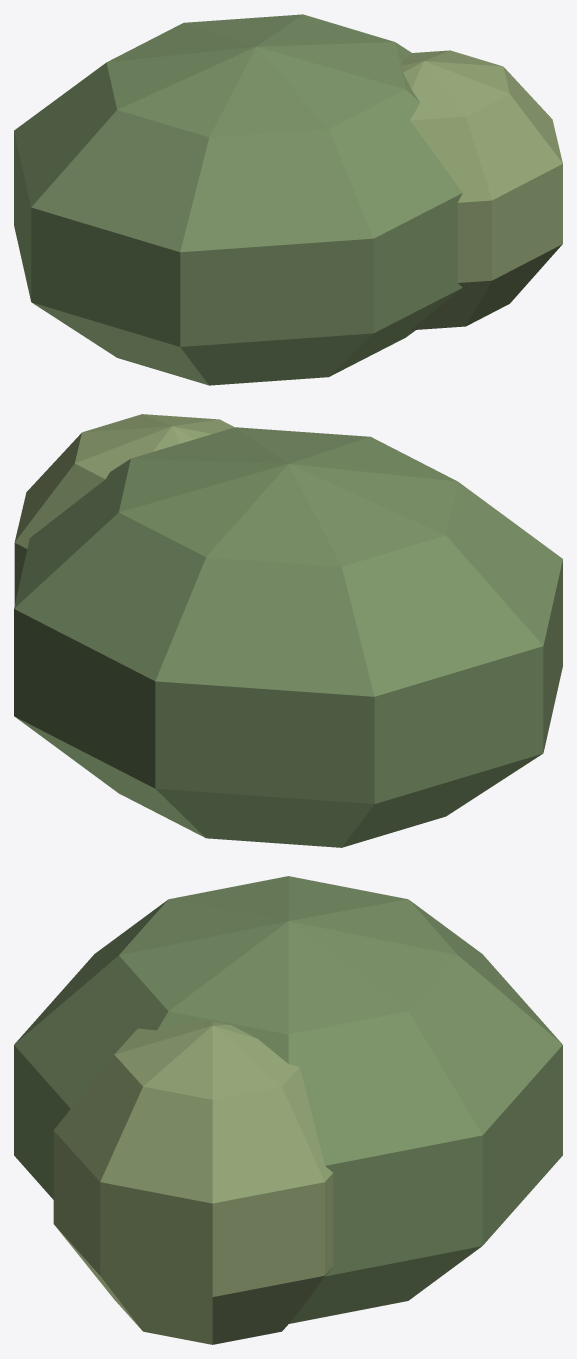
Rendered from bush-round.glb.
The picture shows the model from 3 angles, top to bottom: view 1: azimuth 30°, elevation 25°; view 2: azimuth 150°, elevation 25°; view 3: azimuth 270°, elevation 25°; orthographic projection. The views are drawn at different scales.
Visible parts, largest first — view 1: bush-round; view 2: bush-round; view 3: bush-round.
Boxes of the visible parts, x1,y1,x2,y2 form: bush-round: (14,14,562,385); bush-round: (14,414,562,847); bush-round: (14,876,562,1344).
Bounding box in the file's own units: 2.17 × 1.3 × 1.81.
